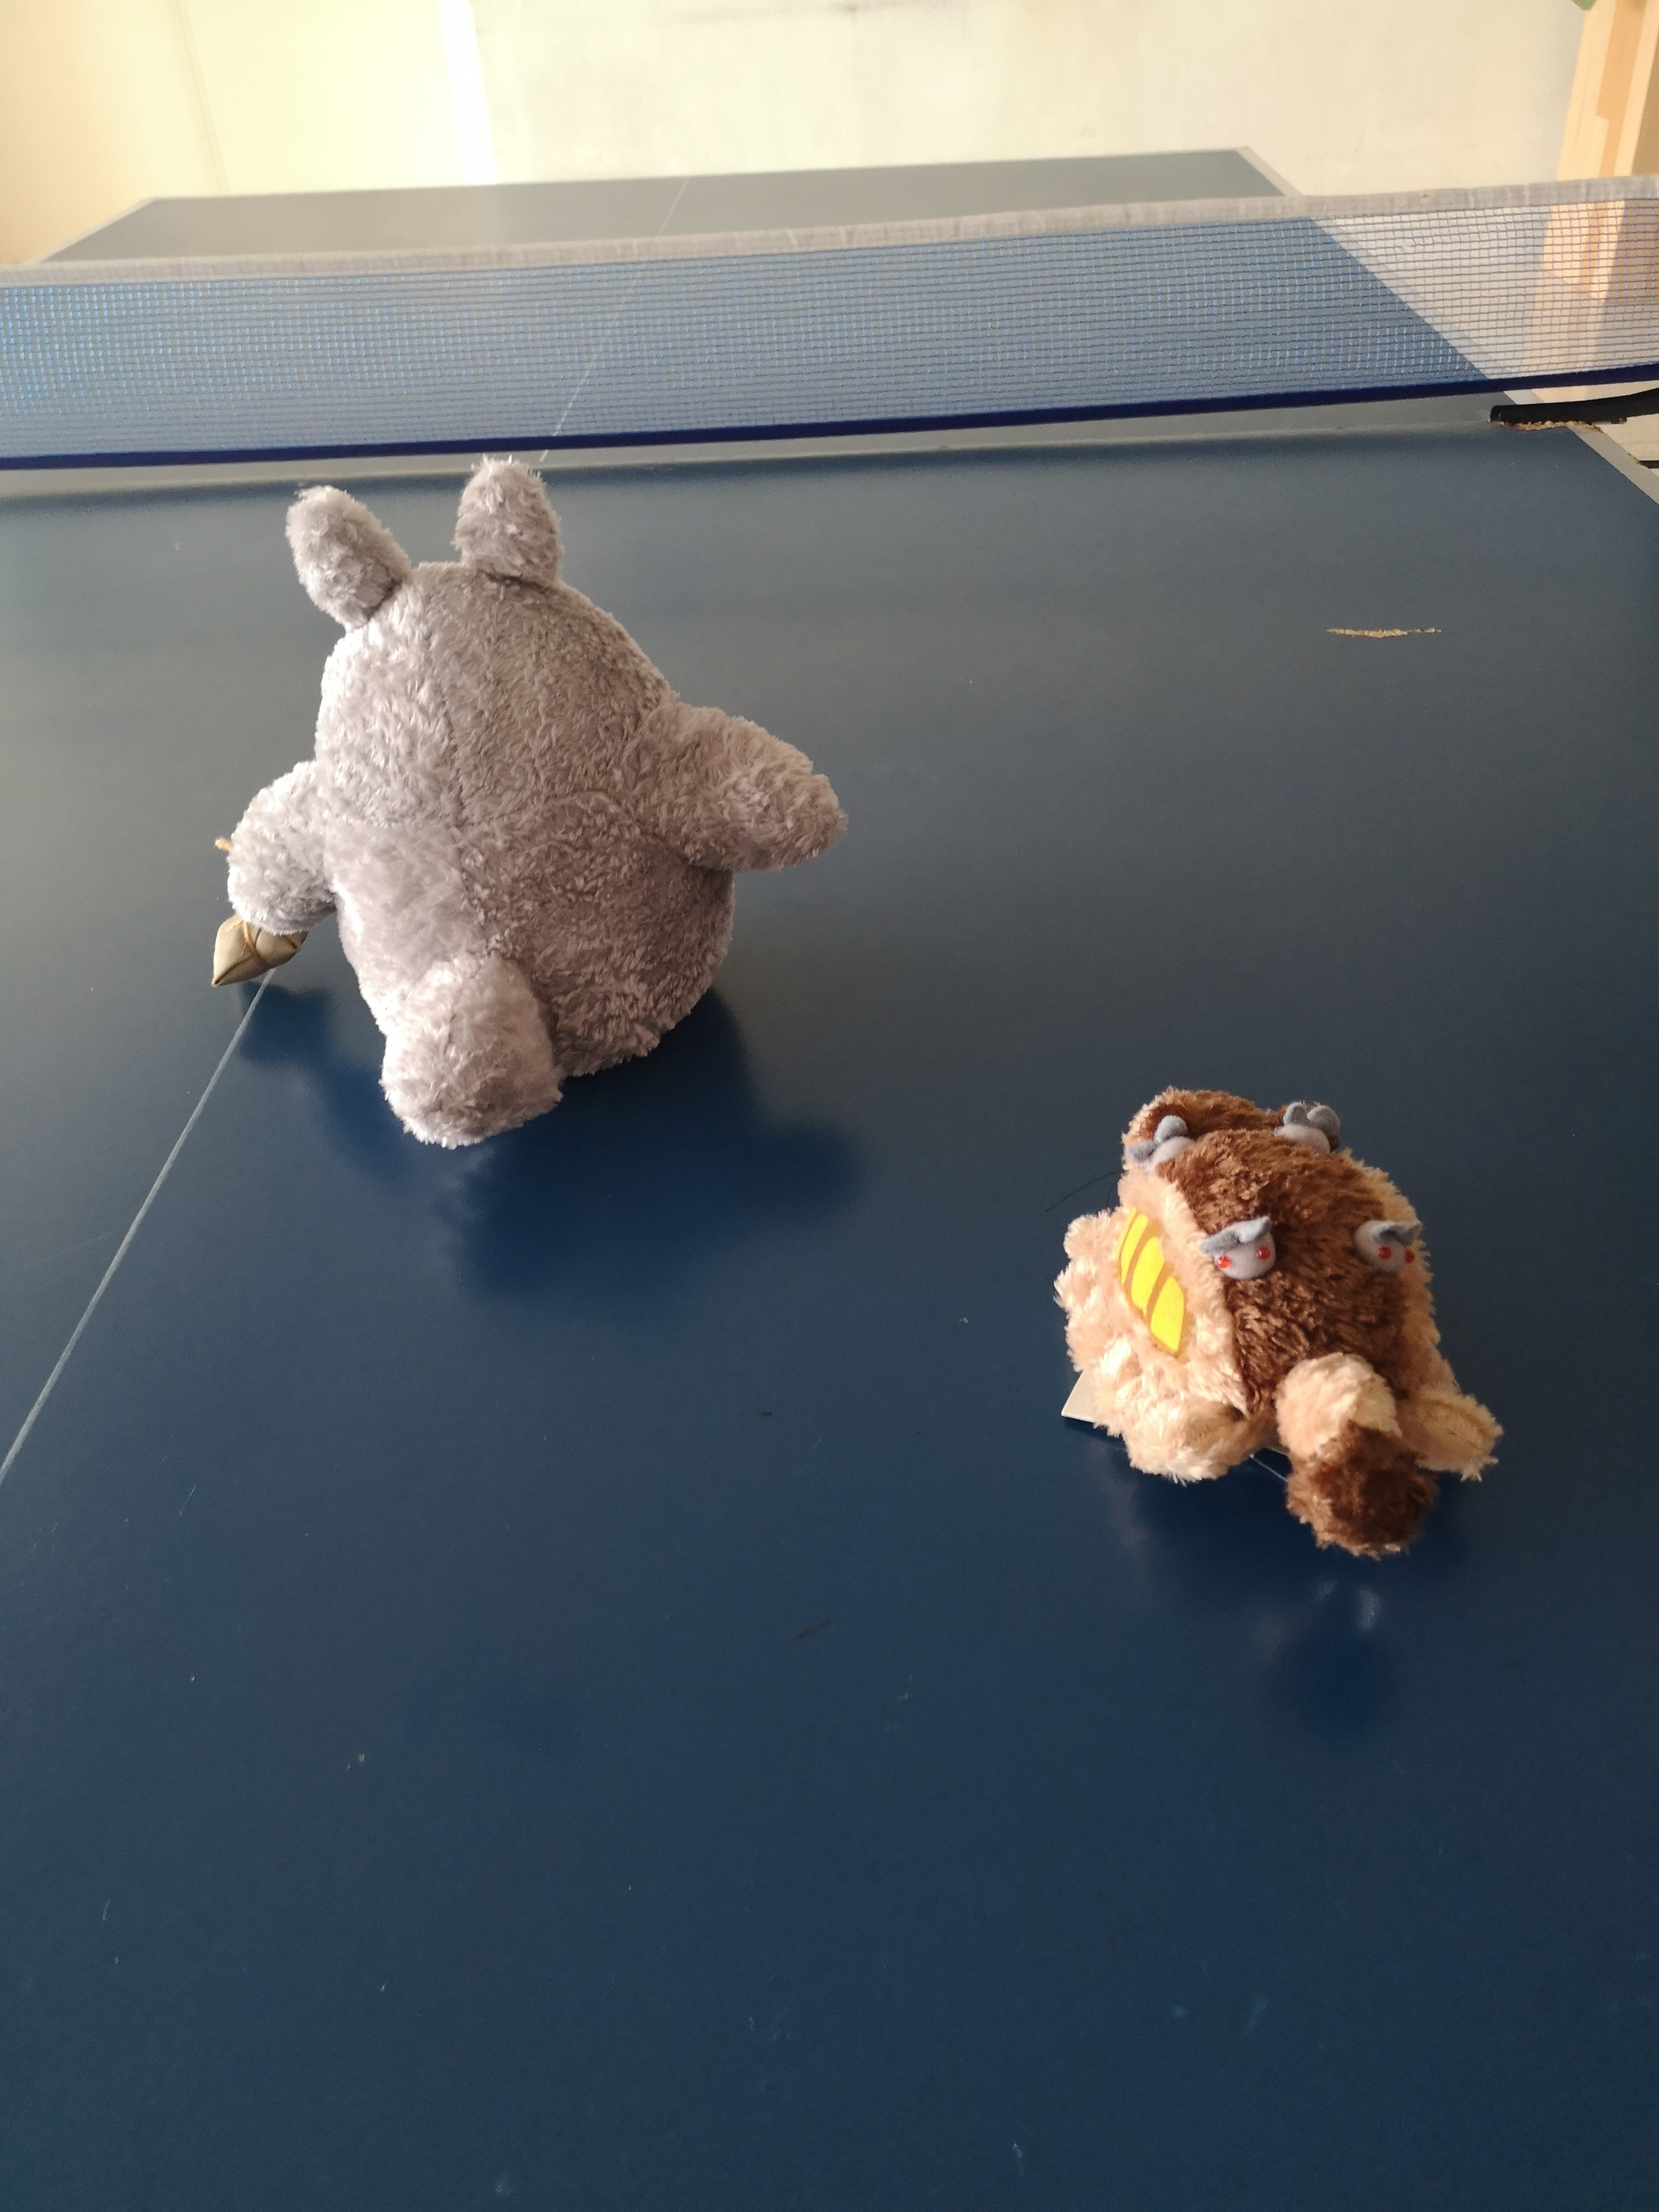nekobus: (1042, 1059, 1518, 1590)
totoro: (204, 439, 854, 1163)
